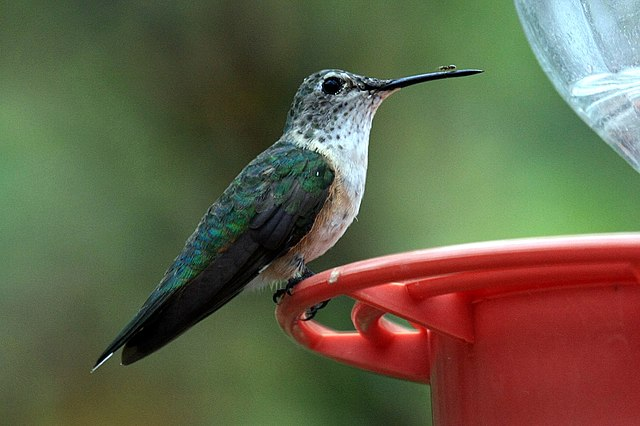selasphorus platycercus: (90, 64, 484, 373)
